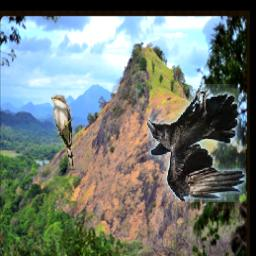Crow: (147, 85, 246, 203)
Cuckoo: (51, 96, 77, 171)
